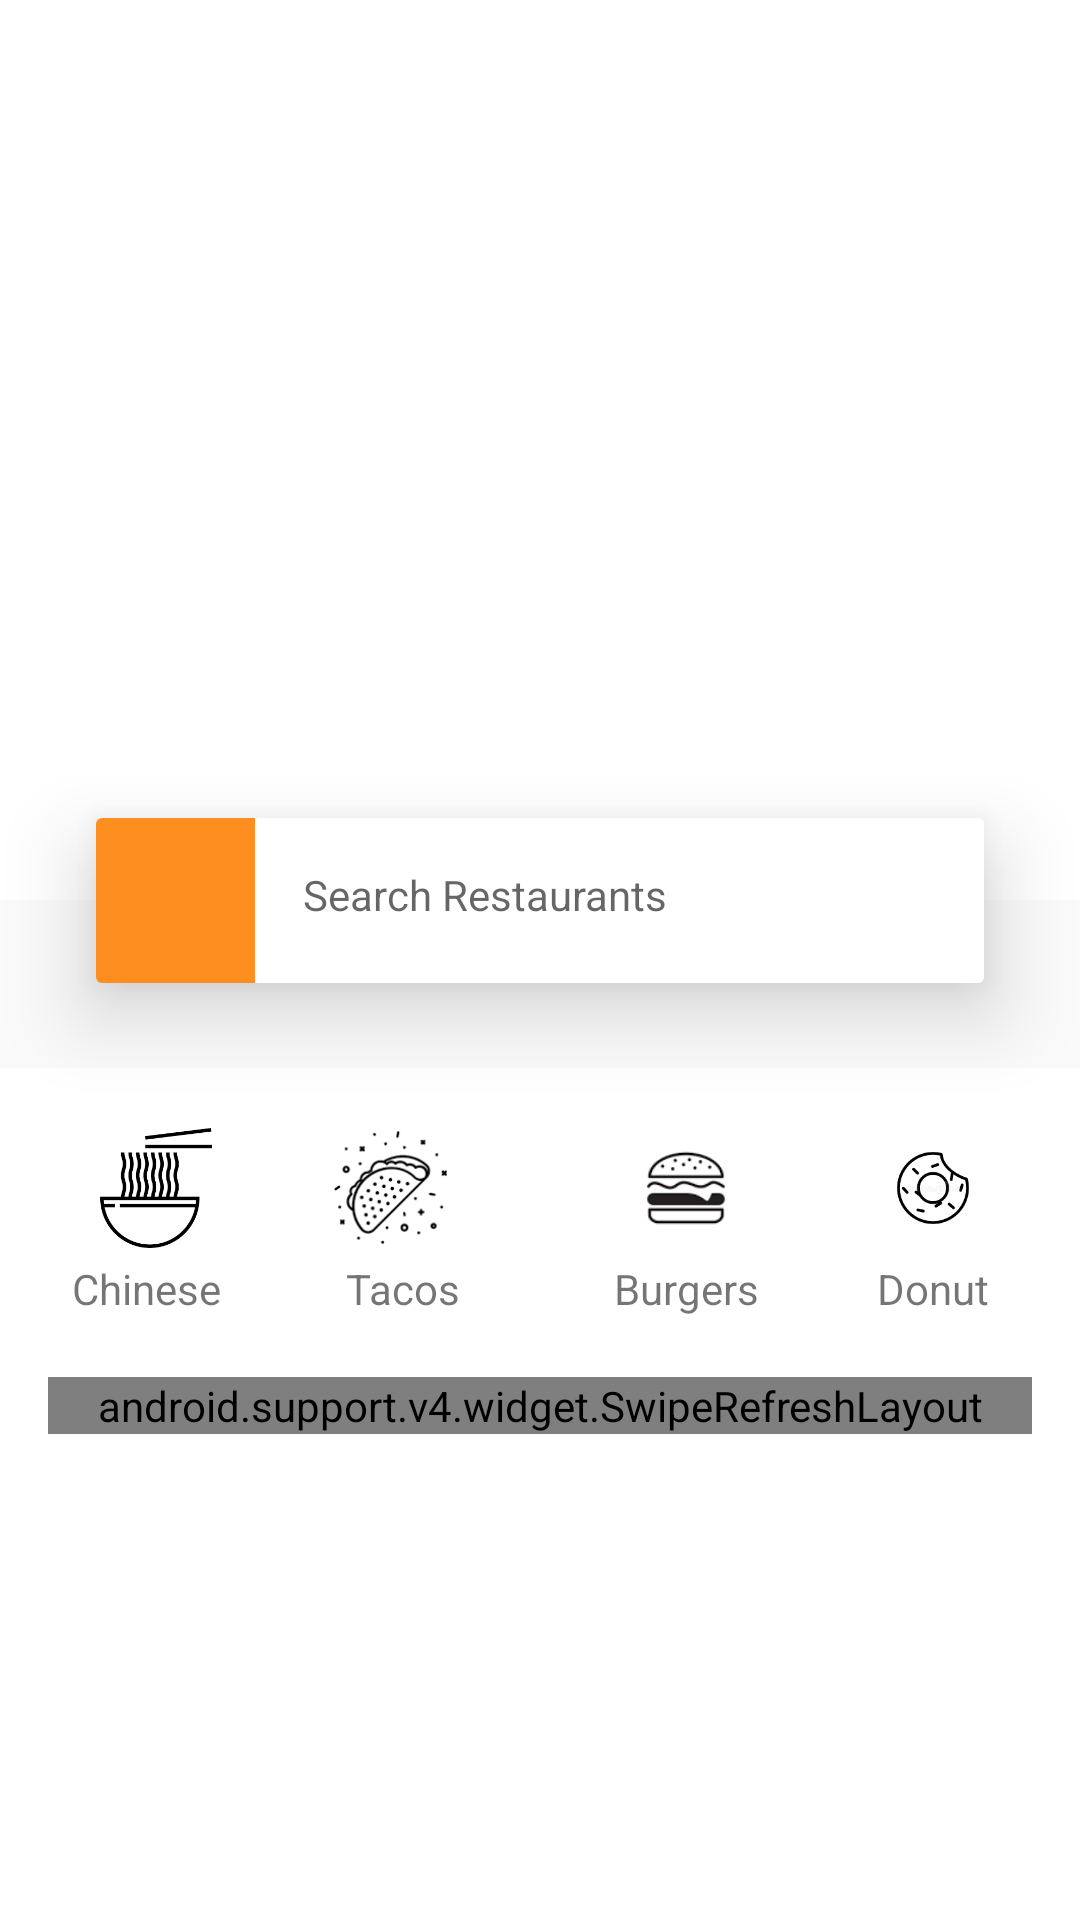

Screen size 1080x1920. Icon name, then its center in pixels as (x=x, y=y):
noodles: (x=156, y=1188)
